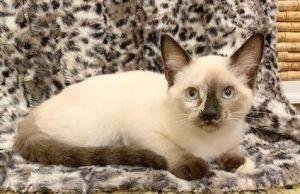siamese: (155, 26, 274, 140)
